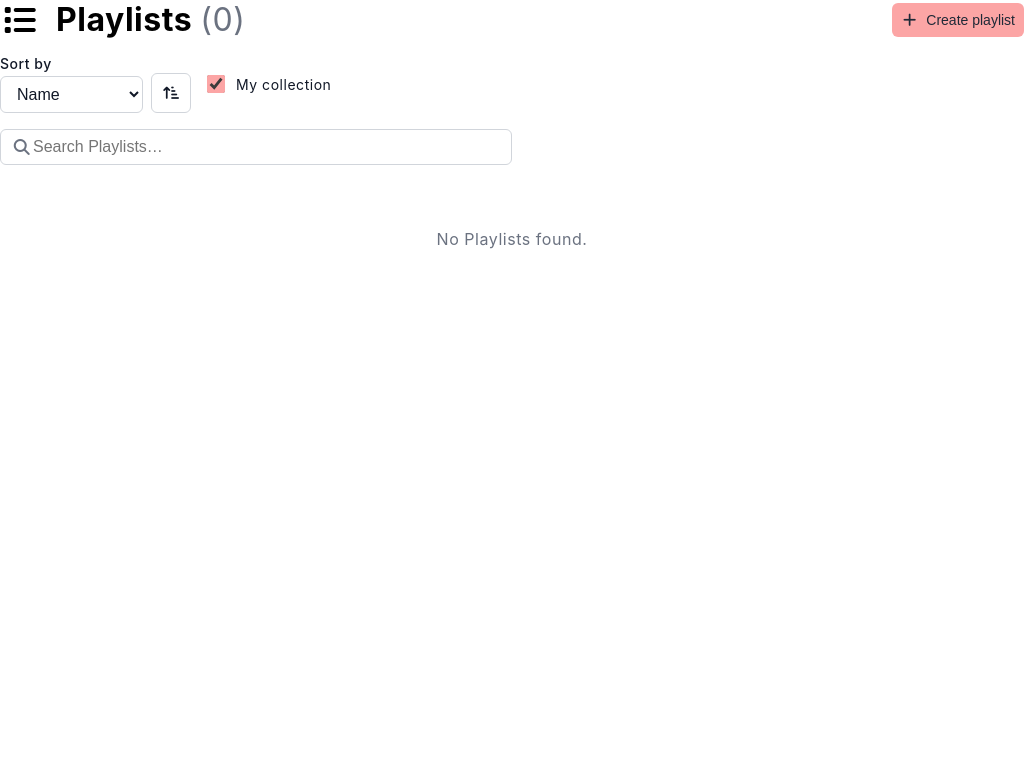
PlaylistsView › creates a playlist and refreshes the list
Click the button "Create playlist" at point(958, 20), box left=892, top=2, right=1023, bottom=36
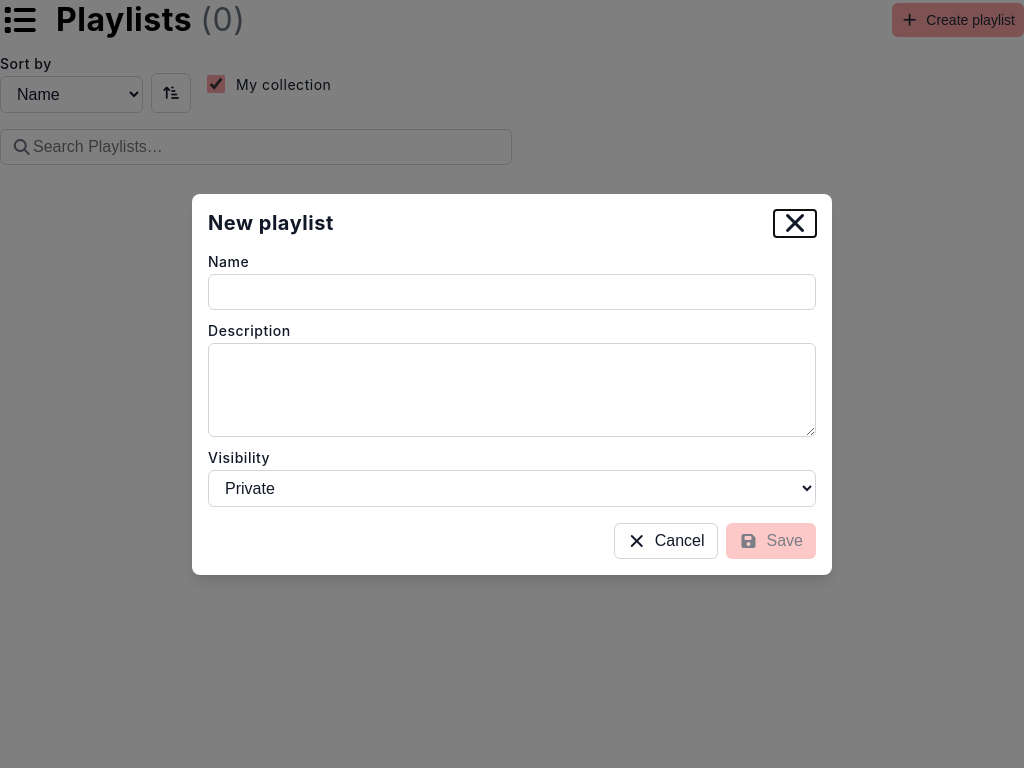
Type "Road Trip" into the field labelled "Name" at point(512, 292), box left=208, top=274, right=816, bottom=310
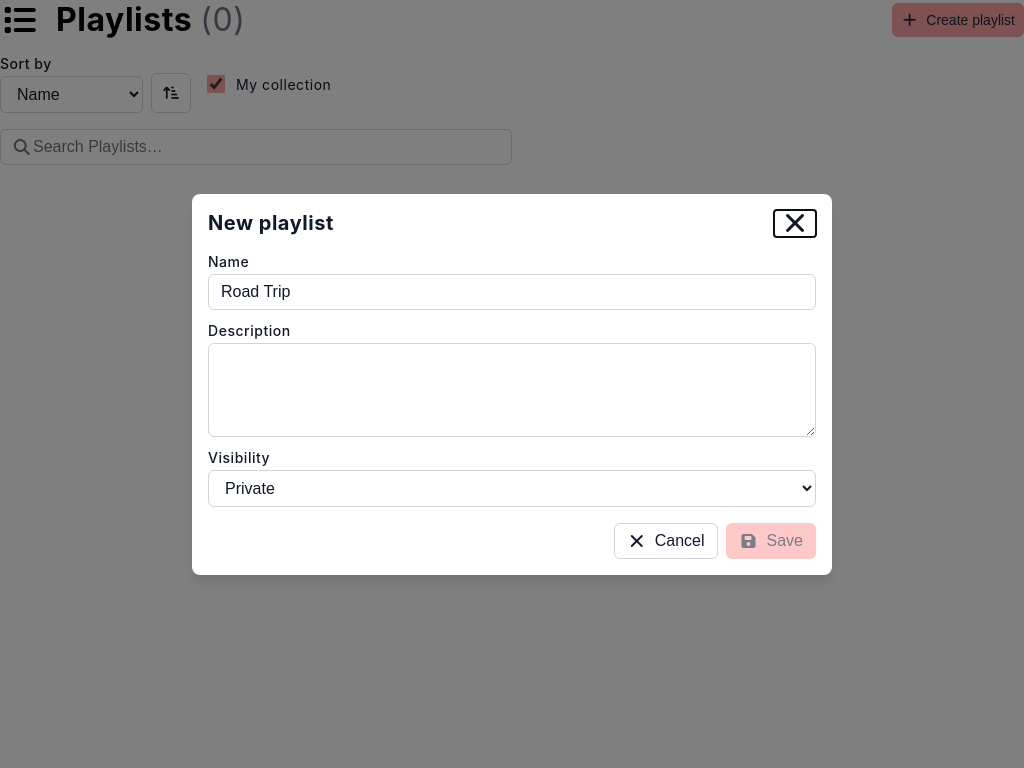
Type "A mix for the highway." into the text box labelled "Description" at point(512, 390), box left=208, top=342, right=816, bottom=436
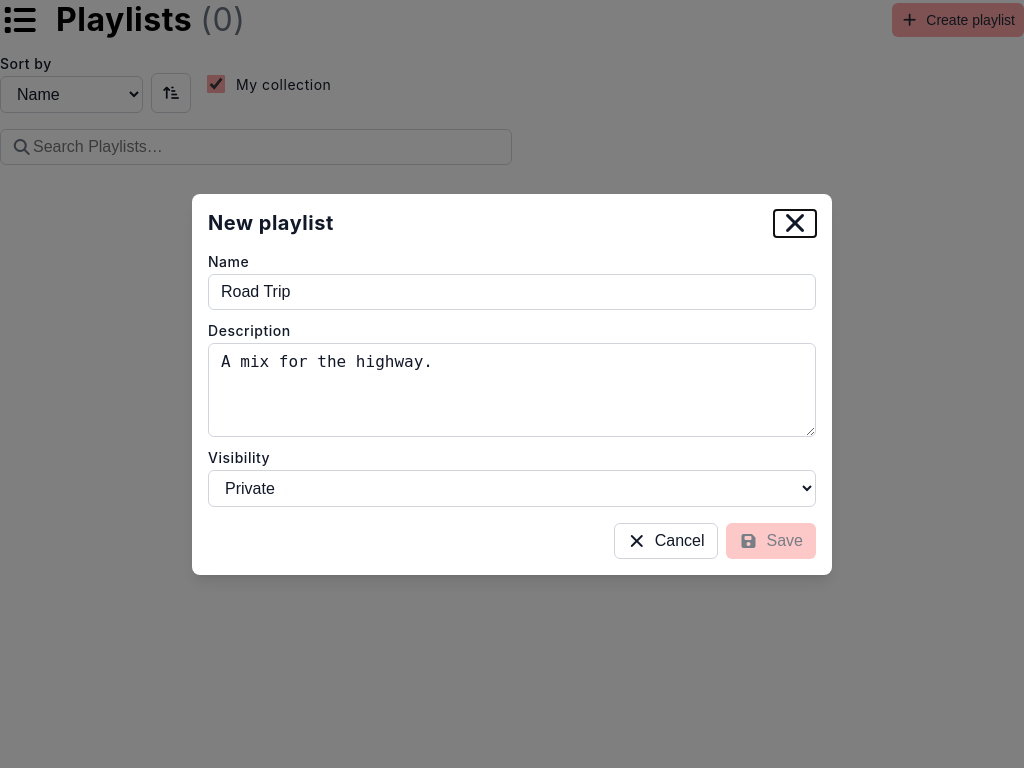
Select "Public" in the dropdown labelled "Visibility" at point(512, 488), box left=208, top=470, right=816, bottom=506
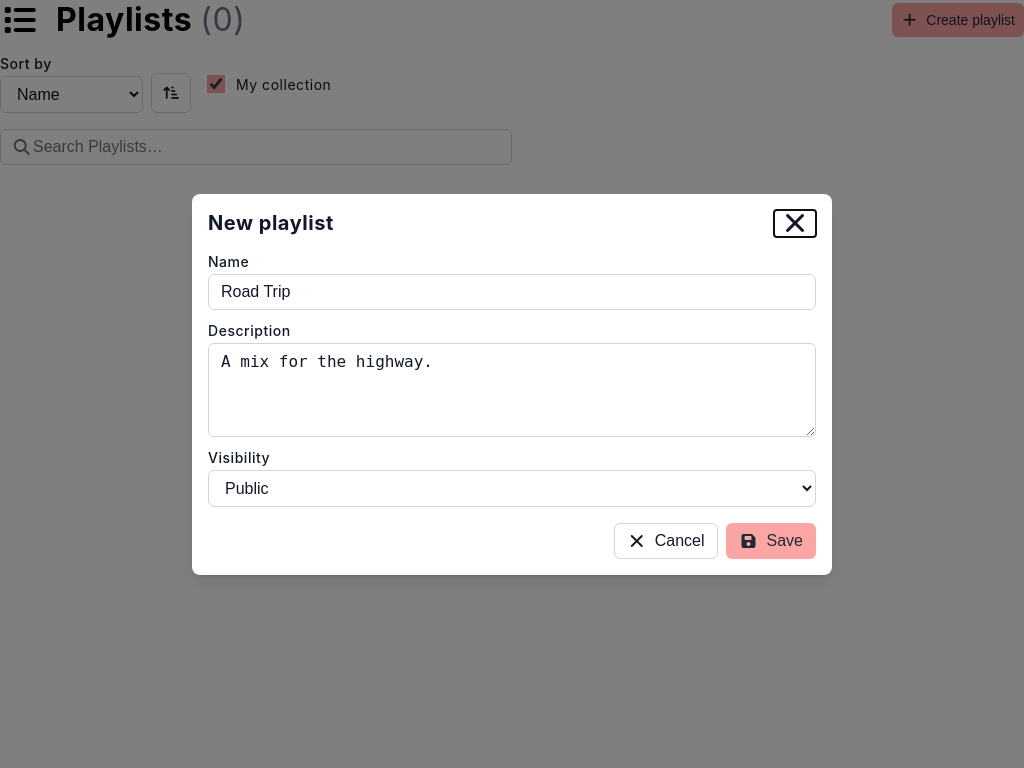
Expected: the button "Save" is shown
Click the button "Save" at point(771, 540), box left=726, top=522, right=816, bottom=558
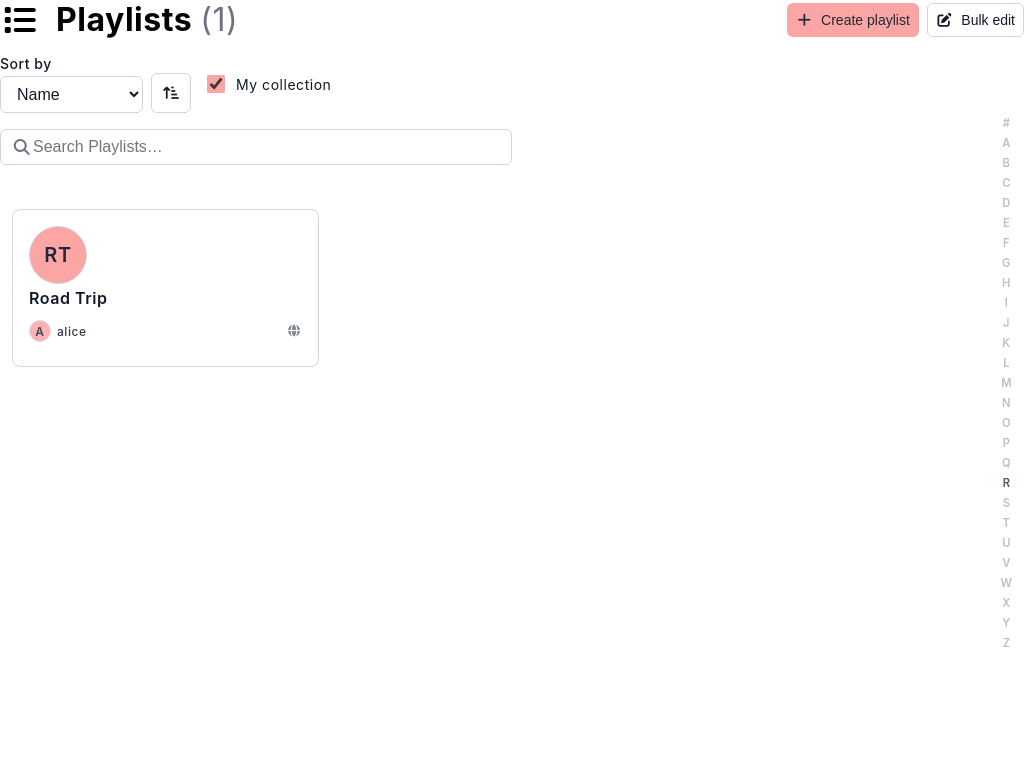
Expected: the form with id "create-playlist-form" is gone
